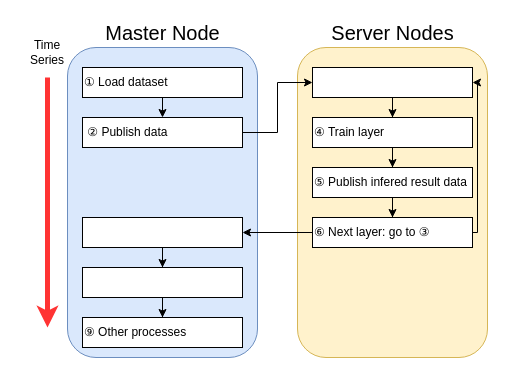
This 505x375 diagram has some shape labels left out. Each missing label, with the centre of its shape:
③ Wait data from privious layer: (x=392, y=82)
⑦ Subscribe necessary publisher topic: (x=162, y=232)
⑧ Gather necessary data: (x=162, y=282)
